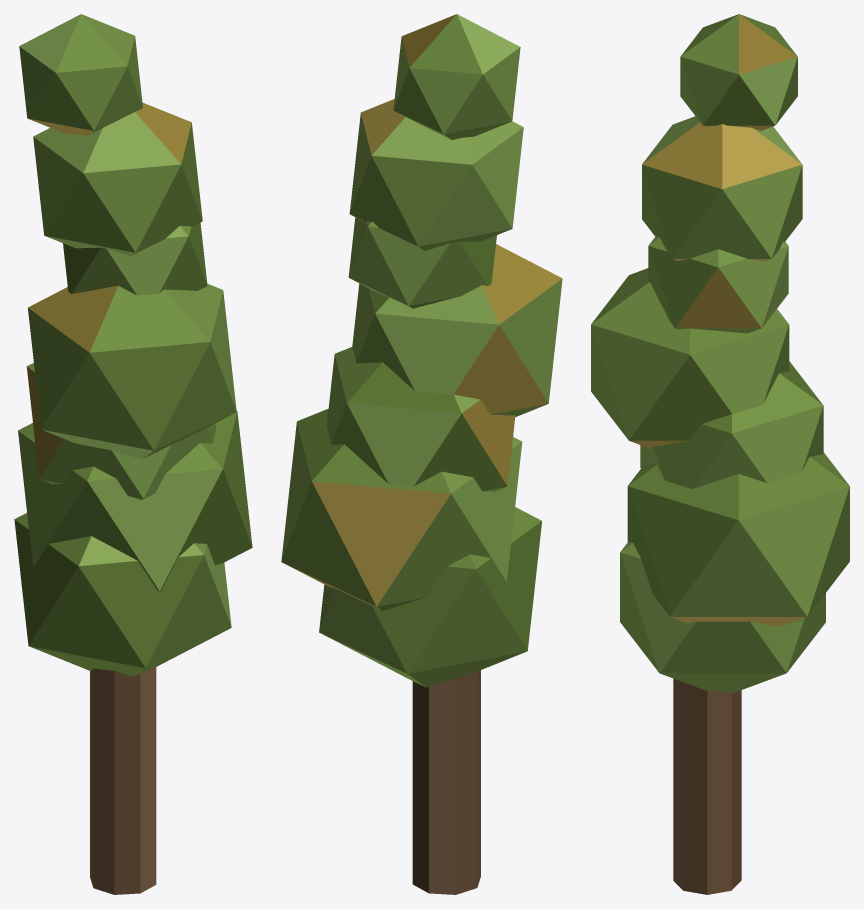
Rendered from Plant_TreePoplar_b.fbx.
3 views of the same model, side by side, from view 1: azimuth 30°, elevation 25°; view 2: azimuth 150°, elevation 25°; view 3: azimuth 270°, elevation 25° (orthographic). The views are drawn at different scales.
Parts seen in each view (by area): view 1: Plant_TreePoplar_b; view 2: Plant_TreePoplar_b; view 3: Plant_TreePoplar_b.
Part boxes in pixels (bbox=[...]): Plant_TreePoplar_b: bbox=[14, 14, 252, 894]; Plant_TreePoplar_b: bbox=[281, 14, 562, 894]; Plant_TreePoplar_b: bbox=[591, 14, 849, 894].
Size of what is drawn, in the model's own units: 0.7397 by 2.76 by 0.7581.
